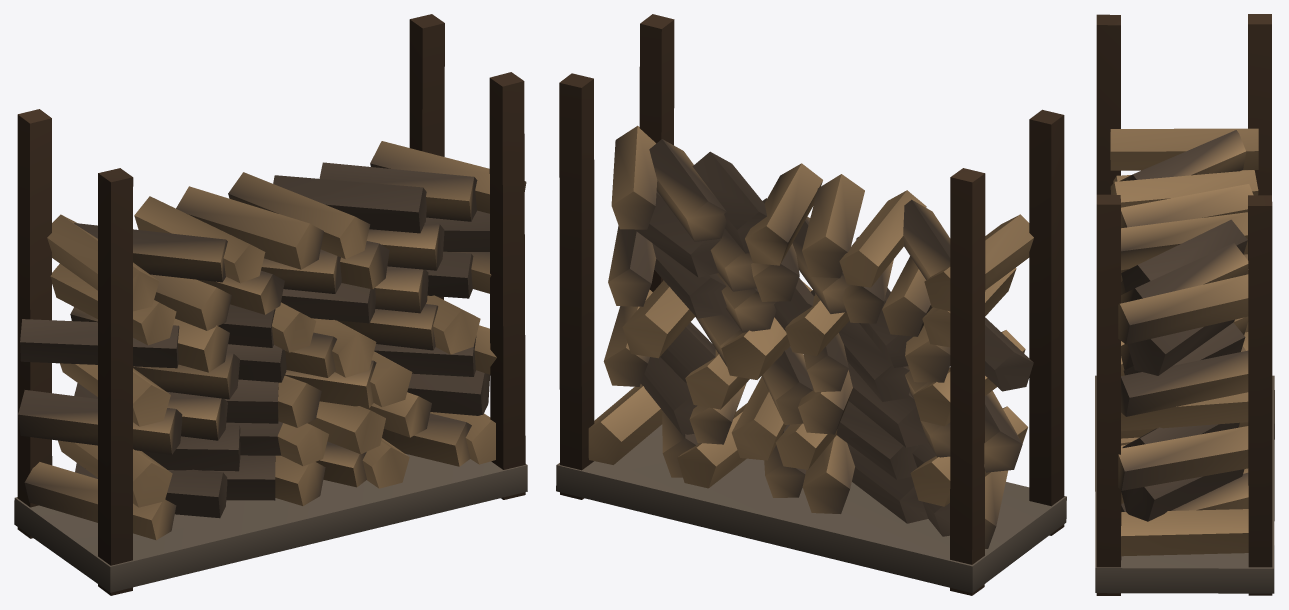
The model's file is ph_int_wood_rack.glb.
3 renders of one model, left to right at view 1: azimuth 30°, elevation 25°; view 2: azimuth 150°, elevation 25°; view 3: azimuth 270°, elevation 25°, orthographic. The views are drawn at different scales.
Parts seen in each view (by area): view 1: ph_int_wood_rack; view 2: ph_int_wood_rack; view 3: ph_int_wood_rack.
Part boxes in pixels (bbox=[...]): ph_int_wood_rack: bbox=[14, 14, 527, 595]; ph_int_wood_rack: bbox=[556, 14, 1066, 595]; ph_int_wood_rack: bbox=[1095, 14, 1274, 595].
Size of the model in its own units: 1.46 by 1.26 by 0.5225.
